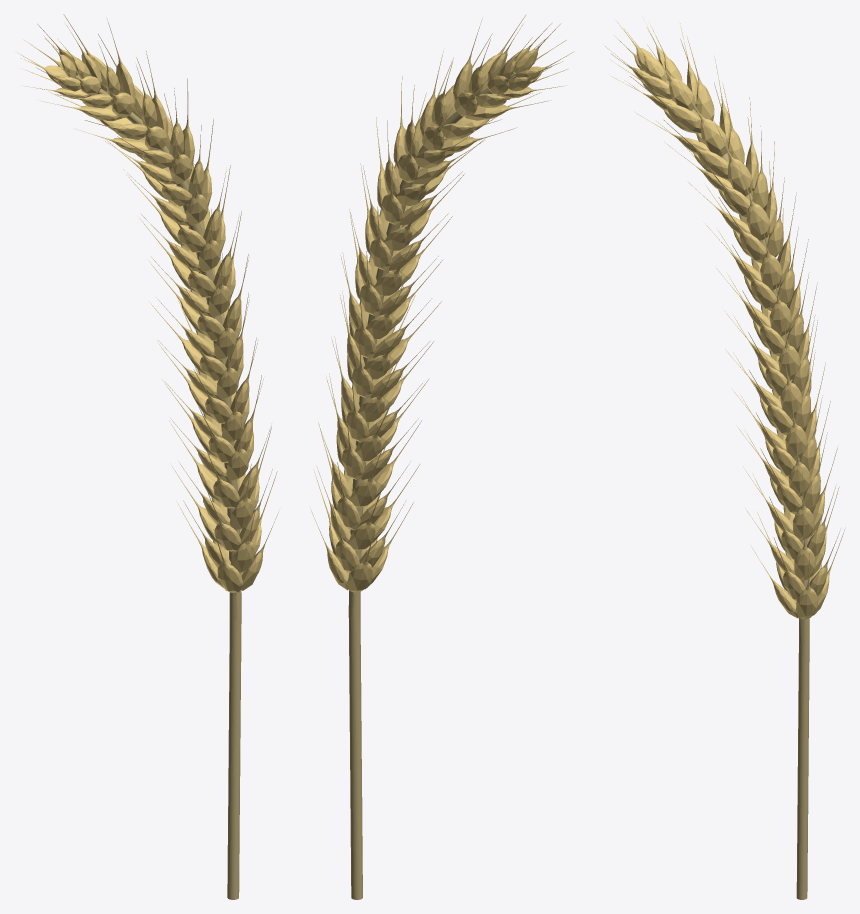
The model's file is Wheat.fbx.
The picture shows the model from 3 angles, left to right: view 1: azimuth 30°, elevation 25°; view 2: azimuth 150°, elevation 25°; view 3: azimuth 330°, elevation 25°; orthographic projection. The views are drawn at different scales.
Parts seen in each view (by area): view 1: Mid; view 2: Mid; view 3: Mid.
Boxes of the visible parts, x1=… form: Mid: x1=15, y1=14, x2=278, y2=899; Mid: x1=311, y1=14, x2=574, y2=899; Mid: x1=605, y1=16, x2=844, y2=899.
Bounding box in the file's own units: 187 × 641 × 69.88.
